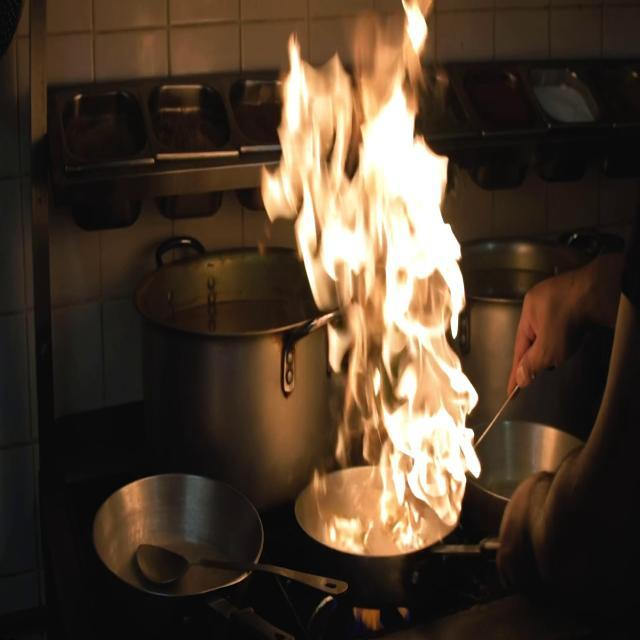Fire: (268, 0, 484, 534)
